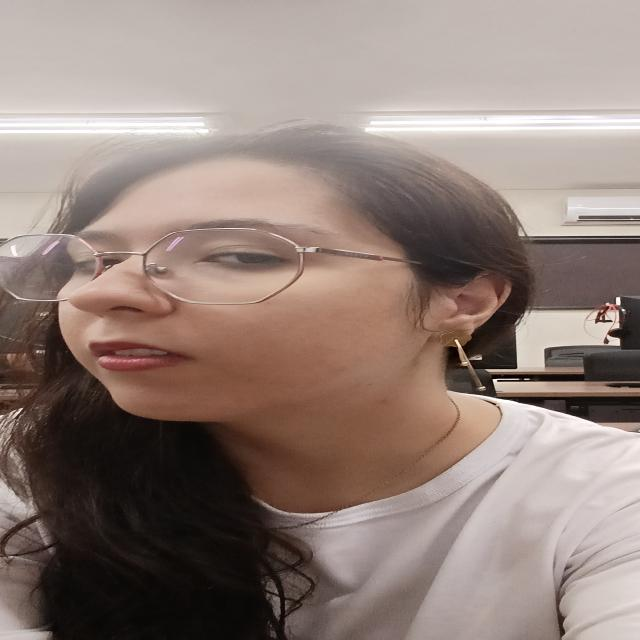sem_oculos: (0, 227, 419, 306)
